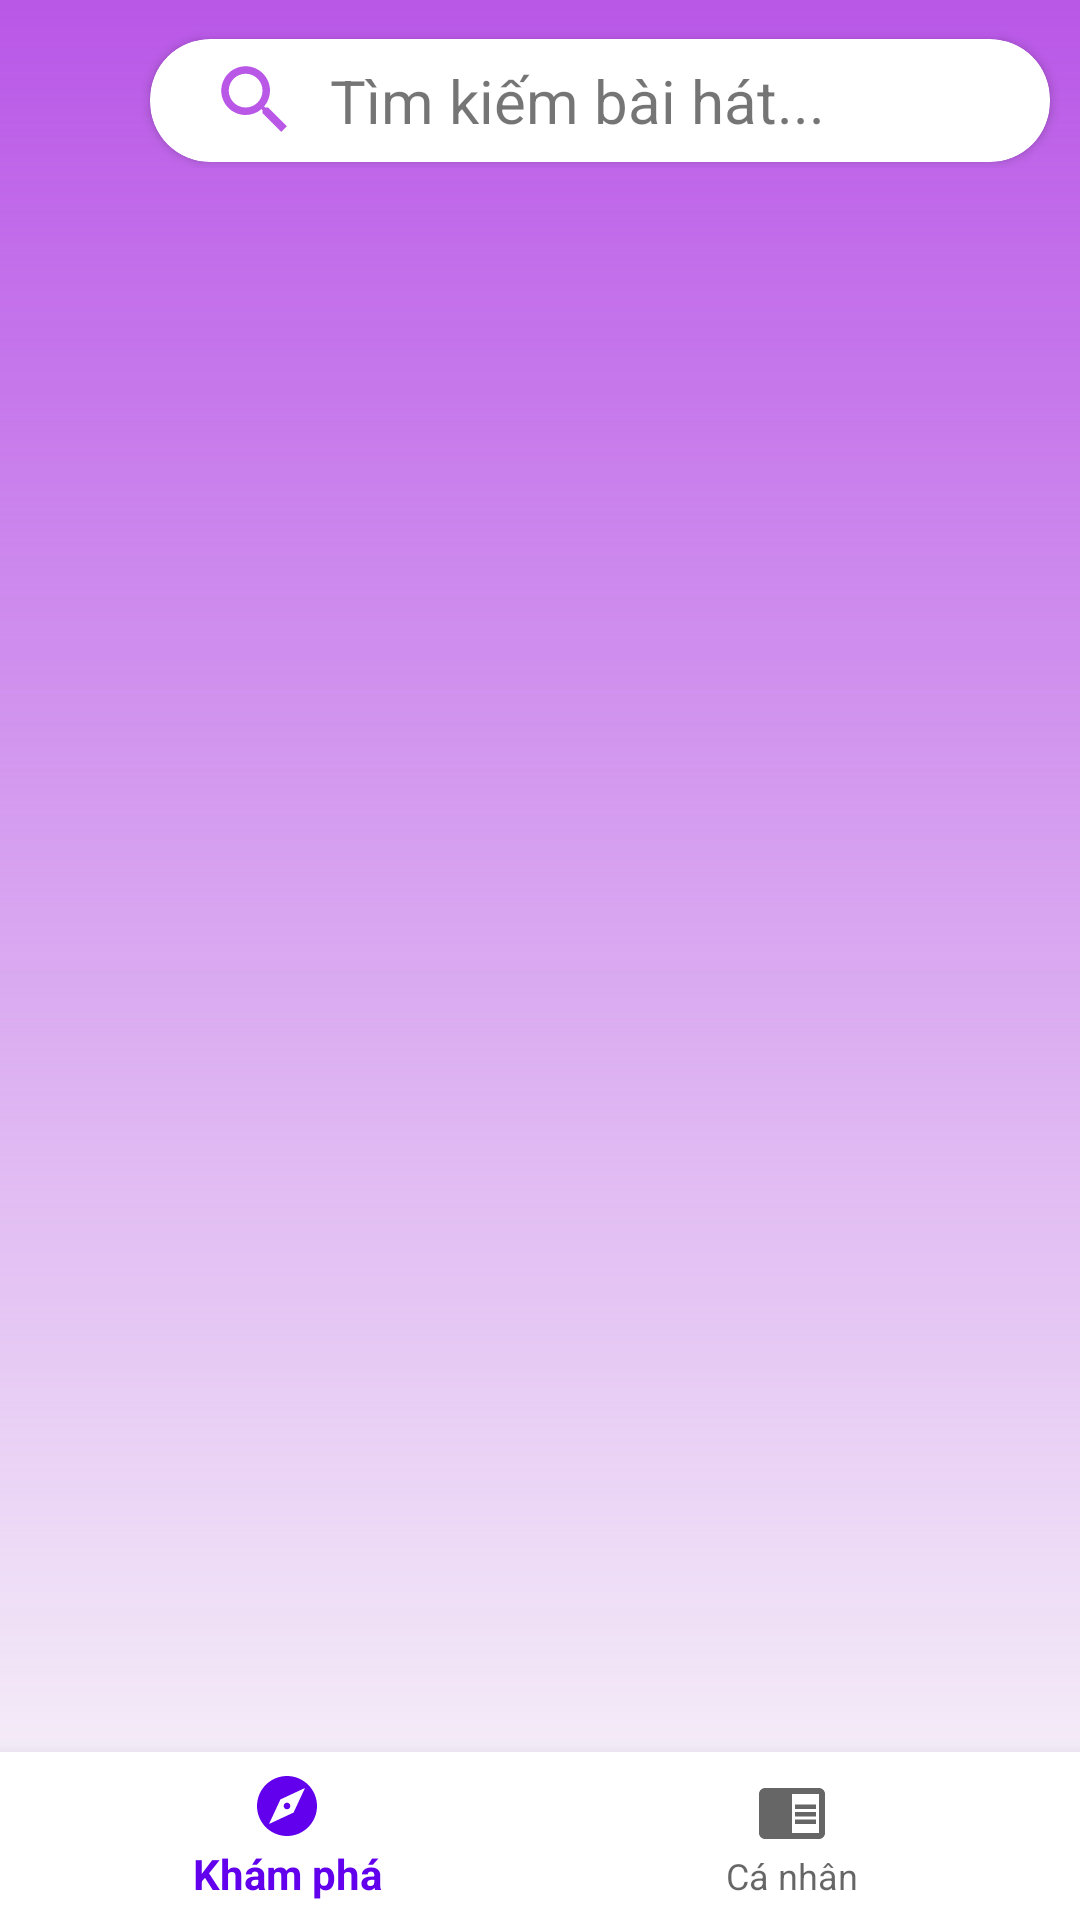

Screen size 1080px×1920px. Icon name, then its center in pixels as (x,y):
search: (254,99)
